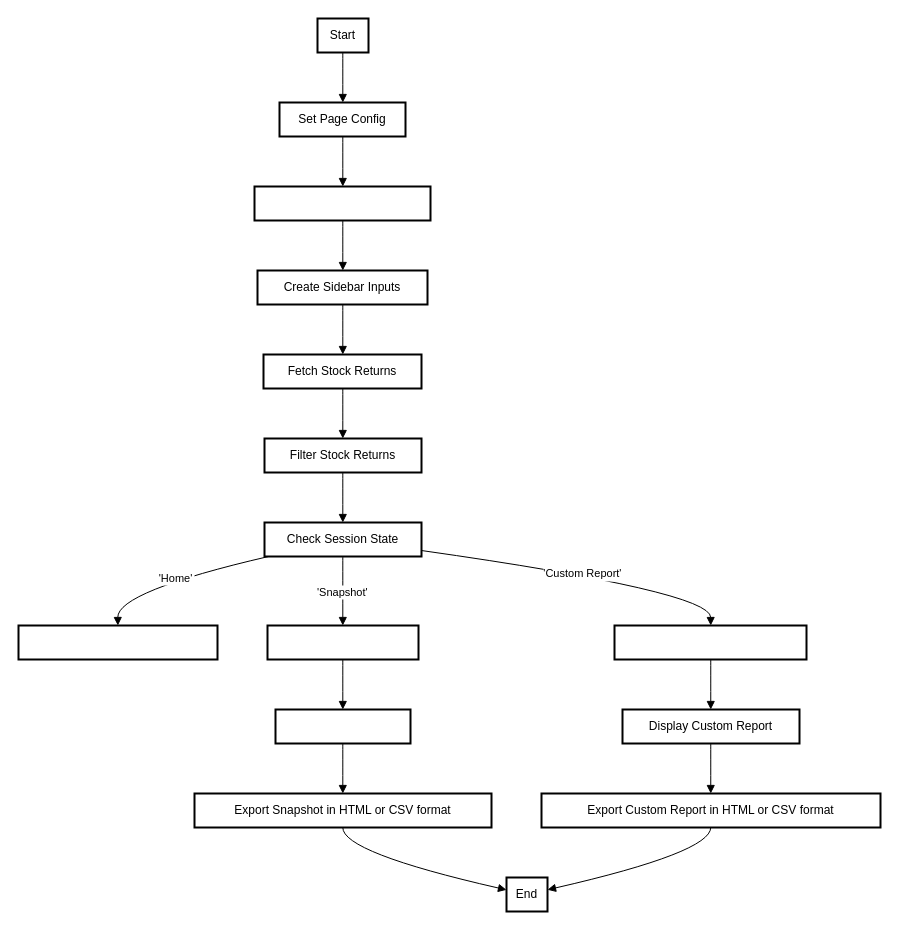
Some shapes in this 898 by 929 pixel diagram are drawn without their labels. The centre of each missing label's shape, as x and y in pixels:
"Display Snapshot" belongs at (342,726).
"Display Welcome Message" belongs at (117,642).
"Generate Custom Report" belongs at (710,642).
"Generate Snapshot" belongs at (342,642).
"Initialize Session State" belongs at (342,203).
